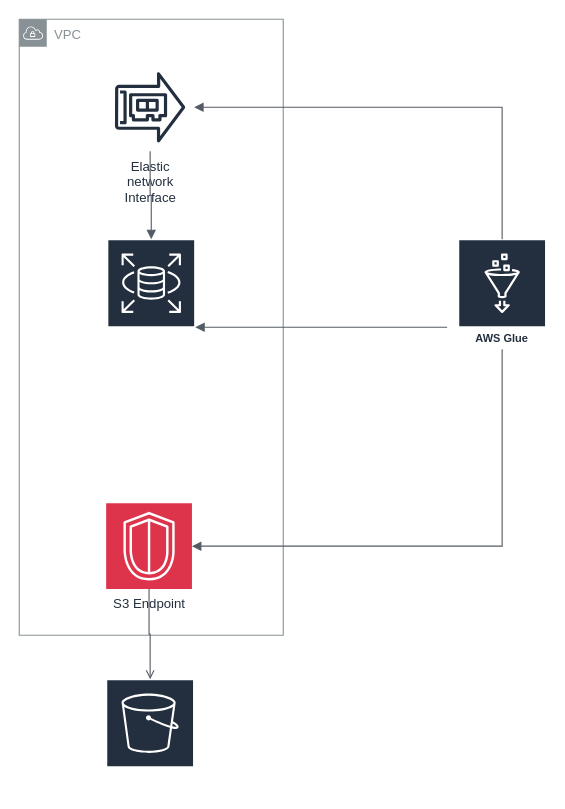
The diagram is 565 pixels wide and 809 high, and some of its shapes have lost their labels. The shapes that lost their labels are listed below. From the top down, each one's centre as x and y in pixels, then its label:
pixel 150 326: Amazon RDS Sample Database
pixel 149 733: Amazon S3
